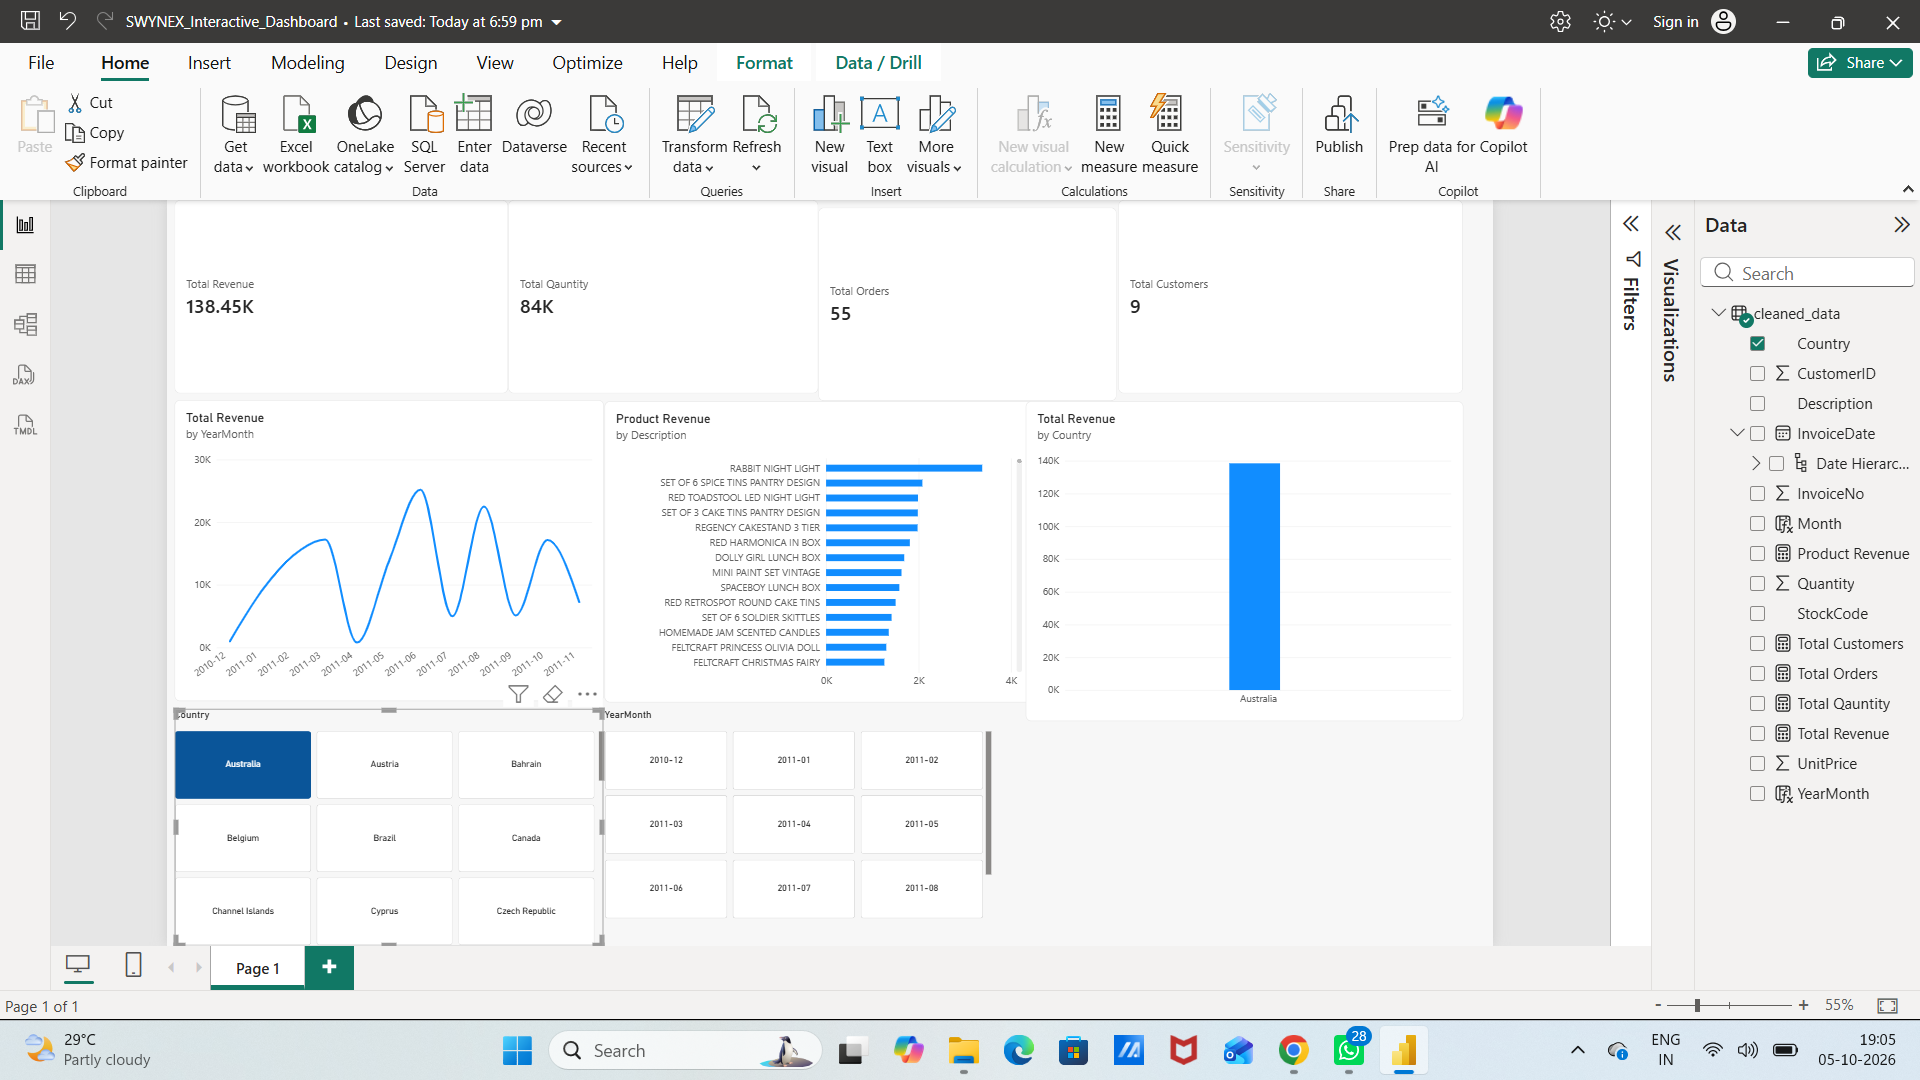

The page's visual inventory and layout, read from the dashboard file:
{"tool":"powerbi","page":{"name":"Page 1","canvas":[1920,1080],"ordinal":0},"visuals":[{"type":"cardVisual","fields":{"Data":["cleaned_data.Total Revenue"]},"box":[10.9,0,483.6,280],"z":0},{"type":"cardVisual","fields":{"Data":["cleaned_data.Total Qauntity"]},"box":[494.5,0,449.1,280],"z":1},{"type":"cardVisual","fields":{"Data":["cleaned_data.Total Orders"]},"box":[943.6,10.9,432.7,280],"z":2},{"type":"cardVisual","fields":{"Data":["cleaned_data.Total Customers"]},"box":[1376.4,0,500,280],"z":3},{"type":"lineChart","fields":{"Category":["cleaned_data.YearMonth"],"Y":["cleaned_data.Total Revenue"]},"box":[10.3,290.2,621.6,436.4],"z":4},{"type":"clusteredBarChart","fields":{"Category":["cleaned_data.Description"],"Y":["cleaned_data.Product Revenue"]},"box":[632.7,290.9,621.8,436.4],"z":5},{"type":"clusteredColumnChart","fields":{"Category":["cleaned_data.Country"],"Y":["cleaned_data.Total Revenue"]},"box":[1243.2,291.4,633.4,463.3],"z":6},{"type":"advancedSlicerVisual","fields":{"Values":["cleaned_data.Country"]},"box":[10,736,622,344],"z":7},{"type":"advancedSlicerVisual","fields":{"Values":["cleaned_data.YearMonth"]},"box":[633.4,736.5,561,304],"z":8}]}

Visuals, with their boxes on the page's 1920x1080 design canvas (x1, y1, x2, y2). These are canvas units, not pixel positions in the 1920x1080 screenshot, which may show the page scaled, cropped or inside an application window:
cardVisual - cleaned_data.Total Revenue: crop(11, 0, 494, 280)
cardVisual - cleaned_data.Total Qauntity: crop(494, 0, 944, 280)
cardVisual - cleaned_data.Total Orders: crop(944, 11, 1376, 291)
cardVisual - cleaned_data.Total Customers: crop(1376, 0, 1876, 280)
lineChart - cleaned_data.YearMonth x cleaned_data.Total Revenue: crop(10, 290, 632, 727)
clusteredBarChart - cleaned_data.Description x cleaned_data.Product Revenue: crop(633, 291, 1254, 727)
clusteredColumnChart - cleaned_data.Country x cleaned_data.Total Revenue: crop(1243, 291, 1877, 755)
advancedSlicerVisual - cleaned_data.Country: crop(10, 736, 632, 1080)
advancedSlicerVisual - cleaned_data.YearMonth: crop(633, 736, 1194, 1040)
